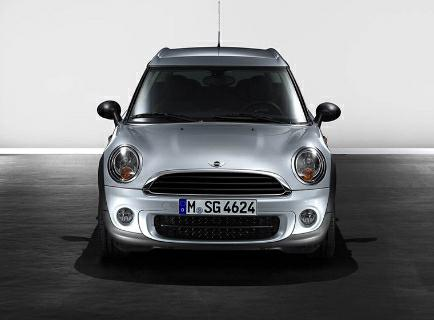MINI CLUBMAN: (91, 52, 342, 264)
